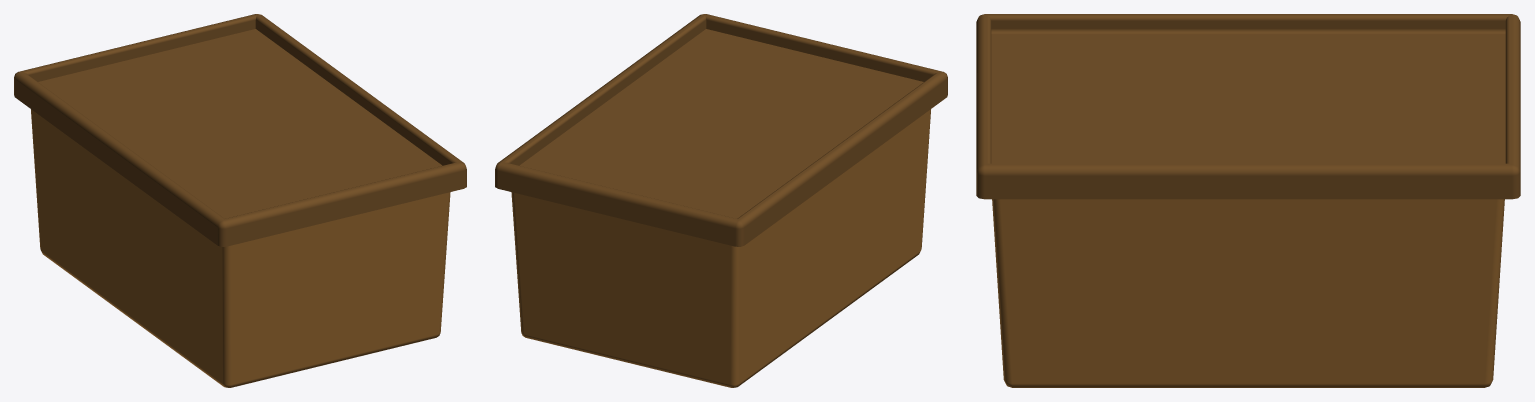
File: SSCContainer4c.fbx
The picture shows the model from 3 angles, left to right: view 1: azimuth 30°, elevation 25°; view 2: azimuth 150°, elevation 25°; view 3: azimuth 270°, elevation 25°; orthographic projection. The views are drawn at different scales.
Parts seen in each view (by area): view 1: SSCContainer4c; view 2: SSCContainer4c; view 3: SSCContainer4c.
Part boxes in pixels (<box>): SSCContainer4c: <box>14,14,466,387</box>; SSCContainer4c: <box>495,14,947,387</box>; SSCContainer4c: <box>976,14,1520,387</box>.
Bounding box in the file's own units: 43.54 × 30 × 63.54.
